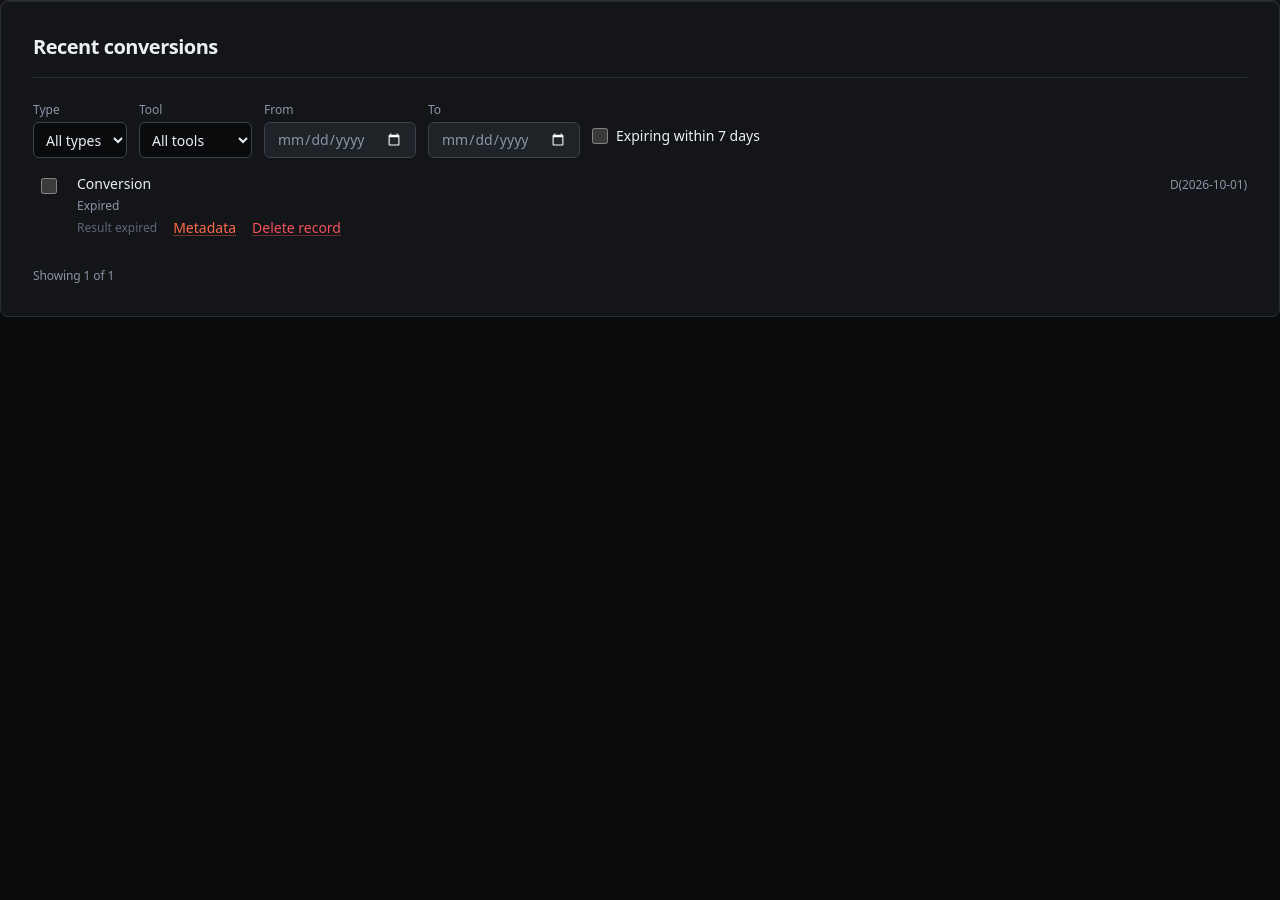
Test: HistoryTab metadata affordance › shows an empty state, not an error, on 404
Click the button with test id "history-metadata-button" at coordinates (205, 228), box x1=173 y1=218 x2=236 y2=238
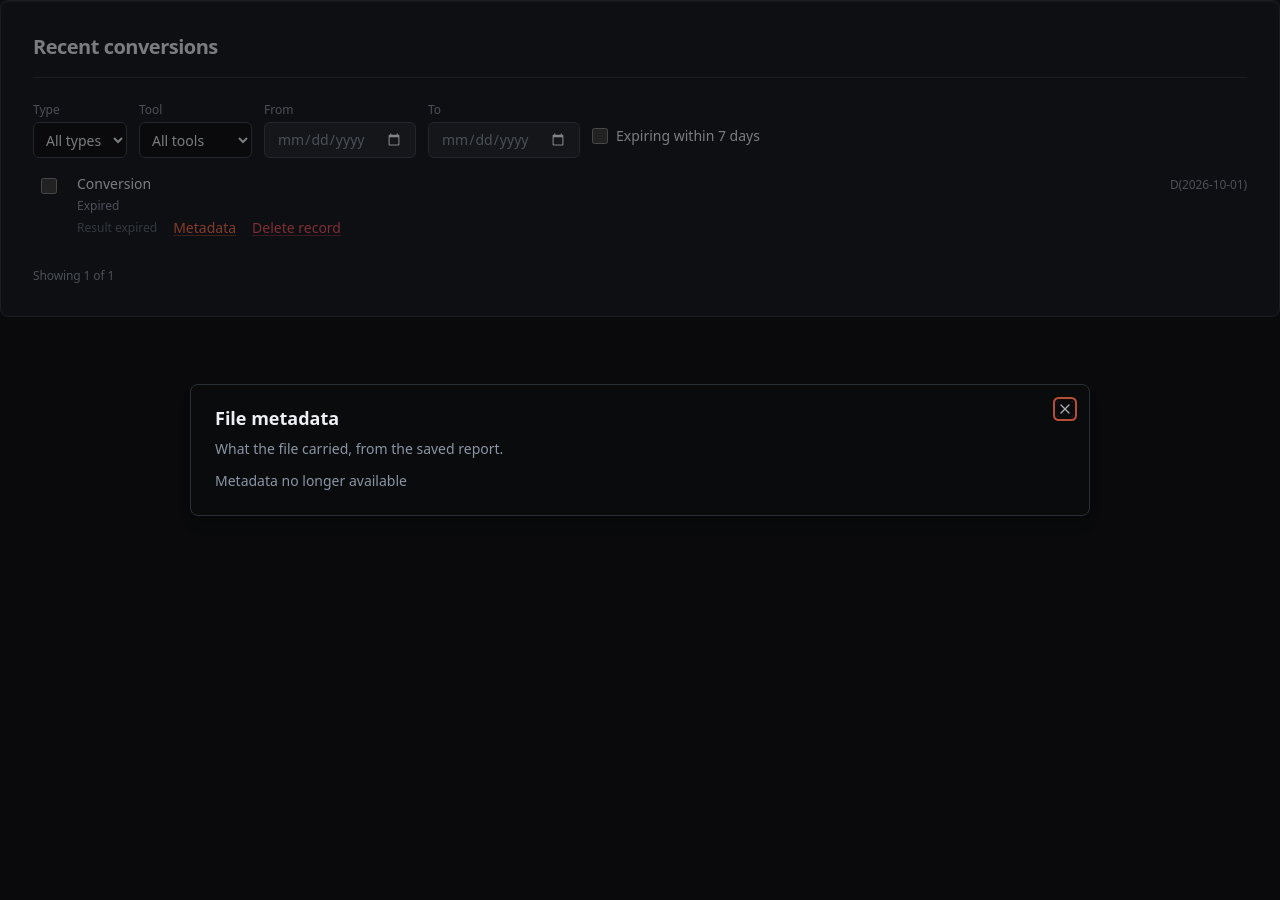
Result: the message with test id "history-metadata-gone" reads "Metadata no longer available" at x1=215 y1=471 x2=407 y2=490
